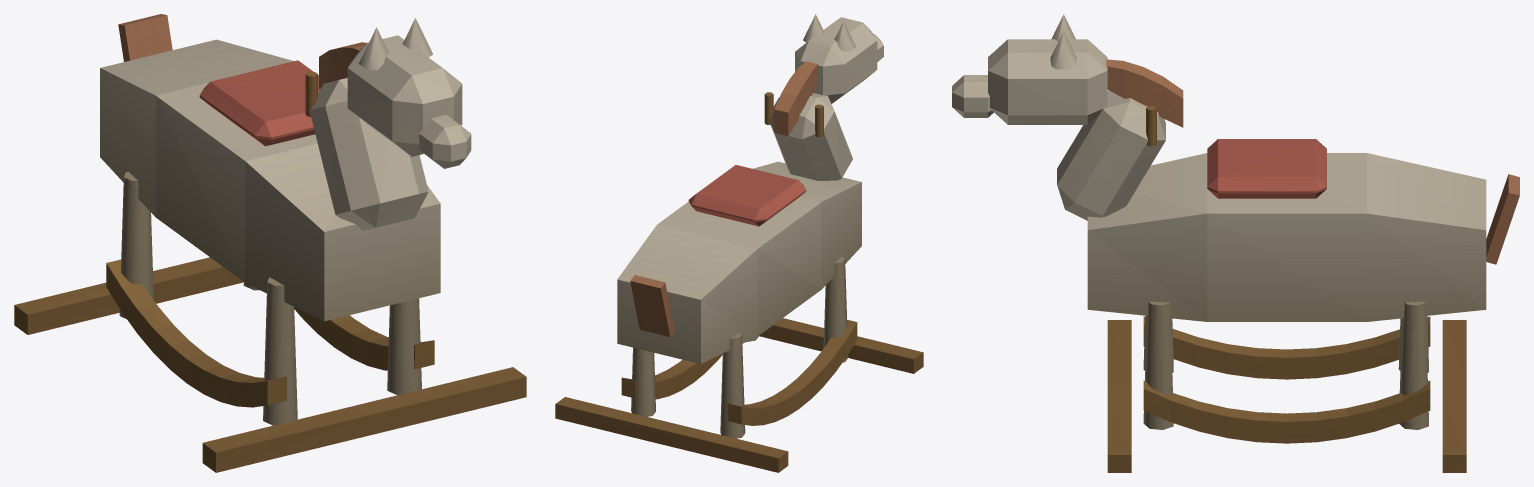
Rendered from rocking_horse.glb.
The picture shows the model from 3 angles, left to right: view 1: azimuth 30°, elevation 25°; view 2: azimuth 150°, elevation 25°; view 3: azimuth 270°, elevation 25°; orthographic projection. The views are drawn at different scales.
Parts seen in each view (by area): view 1: rocking_horse; view 2: rocking_horse; view 3: rocking_horse.
Part boxes in pixels (x1,y1,x2,y2): rocking_horse: [14, 14, 526, 472]; rocking_horse: [555, 14, 923, 472]; rocking_horse: [952, 14, 1519, 472].
Size of the model in its own units: 0.8 by 1.07 by 1.42.
